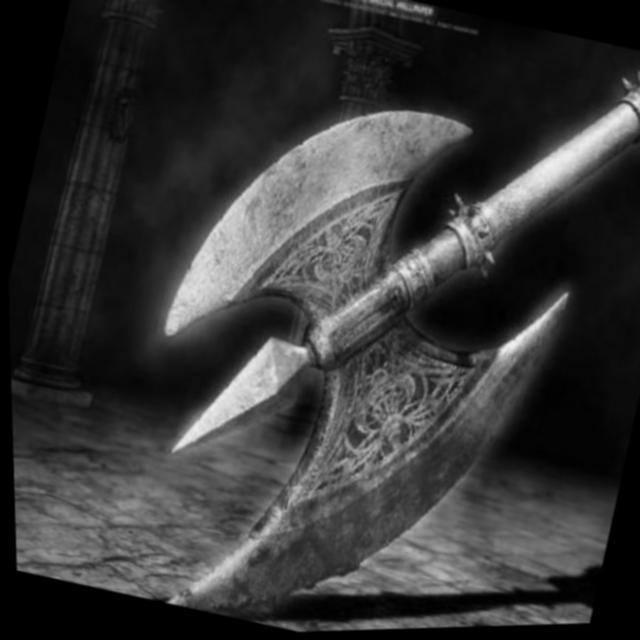weapon: (78, 0, 640, 638)
